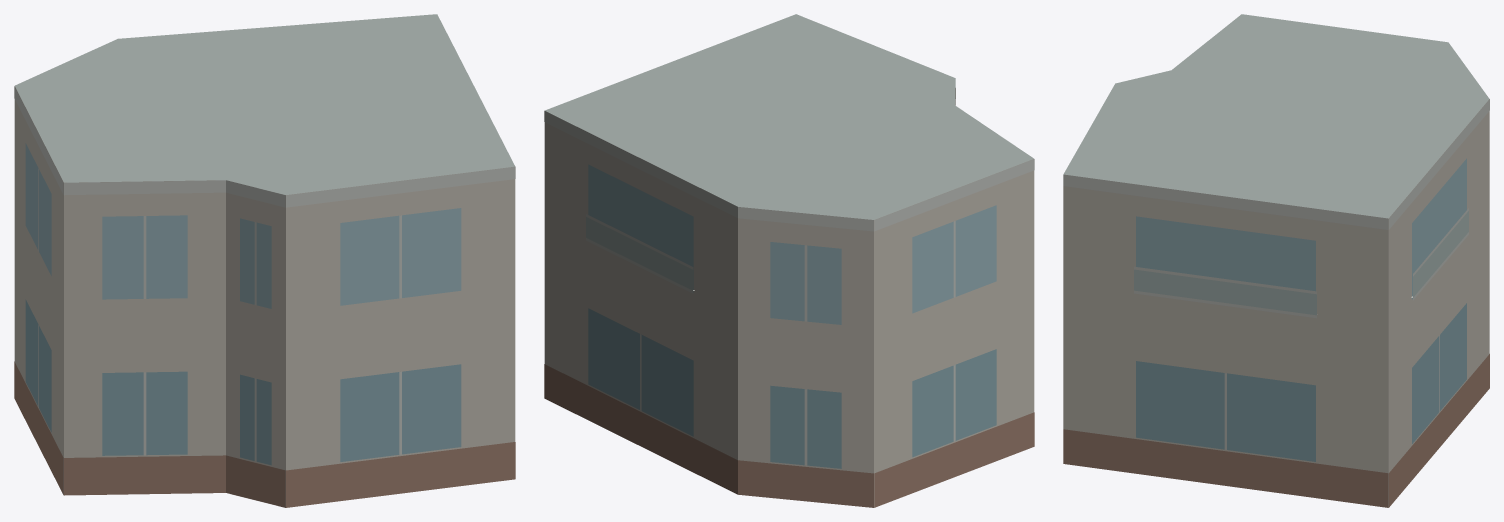
File: survey-upis-32942762.glb
The picture shows the model from 3 angles, left to right: view 1: azimuth 30°, elevation 25°; view 2: azimuth 150°, elevation 25°; view 3: azimuth 270°, elevation 25°; orthographic projection. The views are drawn at different scales.
Visible parts, largest first — view 1: survey-upis-32942762.tmp; view 2: survey-upis-32942762.tmp; view 3: survey-upis-32942762.tmp.
Boxes of the visible parts, x1,y1,x2,y2 form: survey-upis-32942762.tmp: [14, 14, 515, 507]; survey-upis-32942762.tmp: [544, 14, 1034, 507]; survey-upis-32942762.tmp: [1063, 14, 1489, 507].
Bounding box in the file's own units: 9.26 × 6.1 × 8.16.
